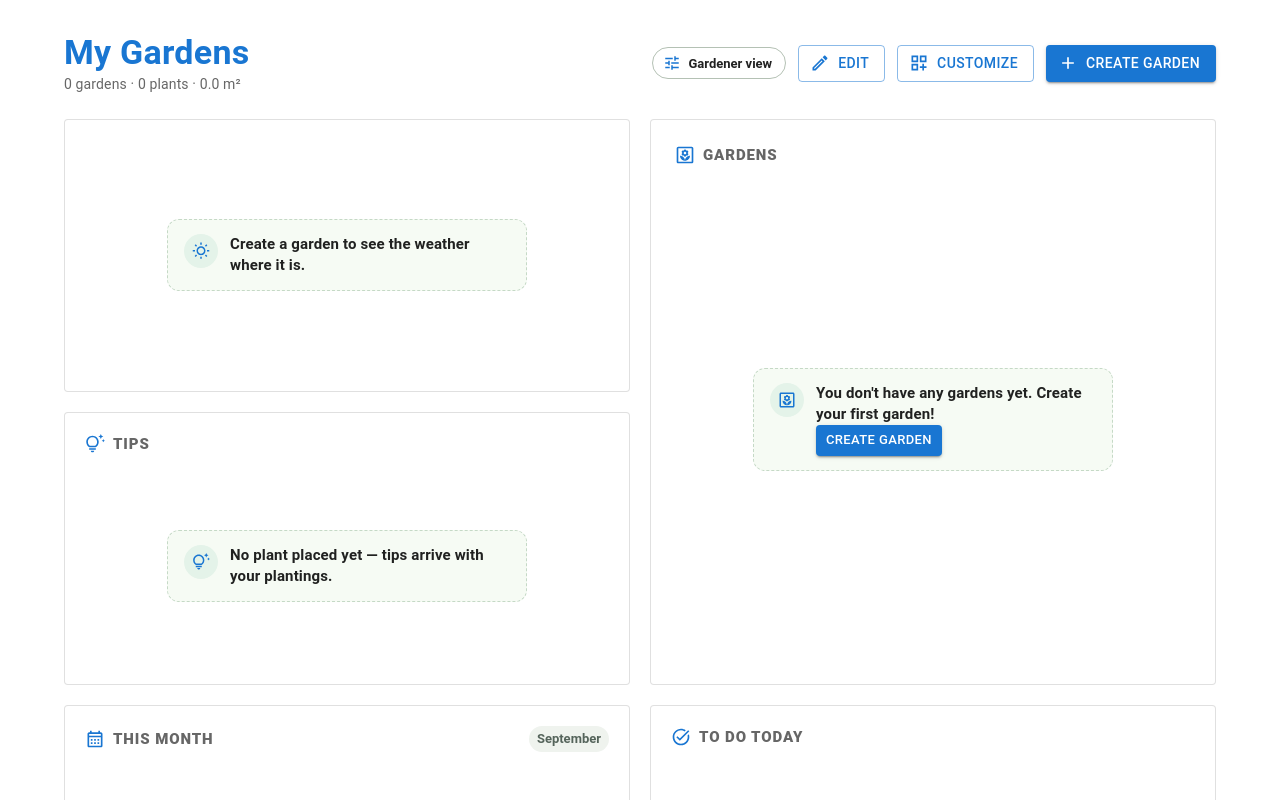
Scenario: GardensDashboard — Edit mode chrome (SMA-336) › opens a generic options panel that admits it carries nothing yet
Click the button "Edit" at [842, 63], box [798,45,885,82]
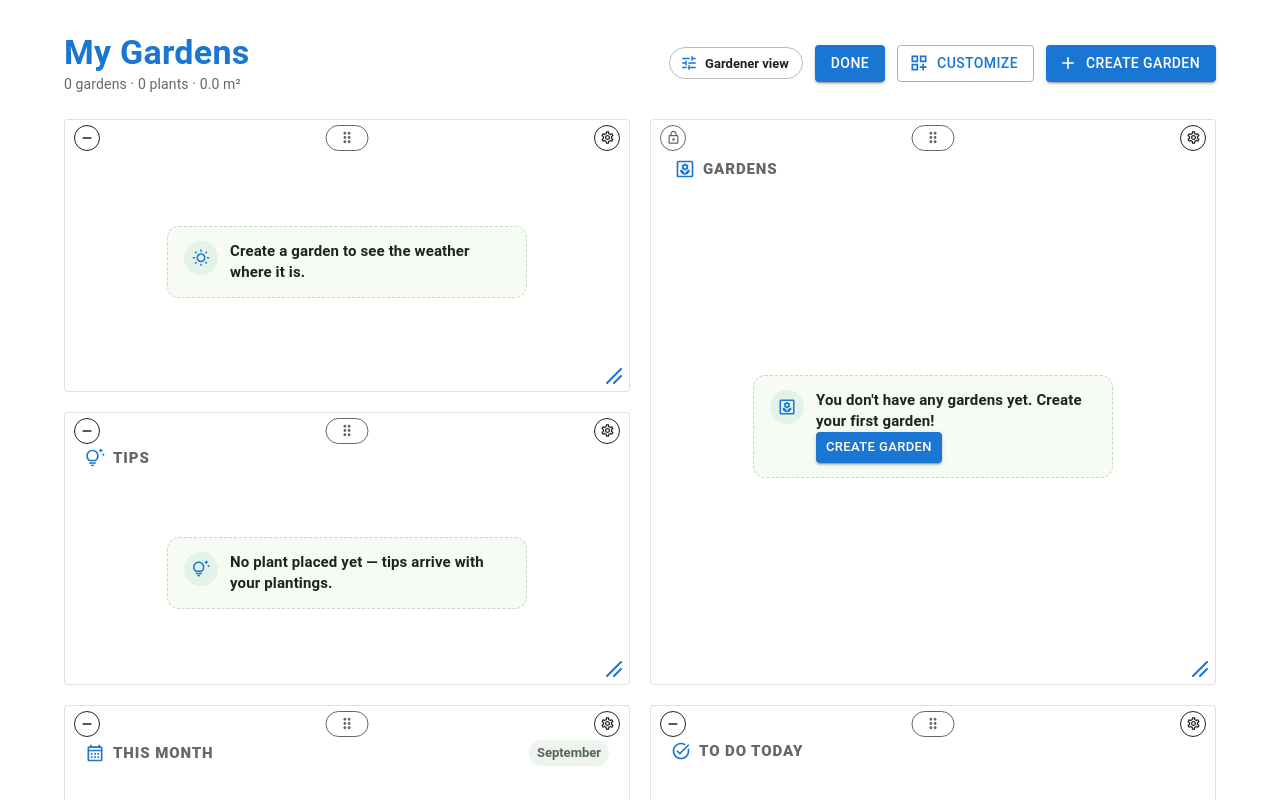
Click the button named "Tips options" at [607, 431], box [594,418,620,444]
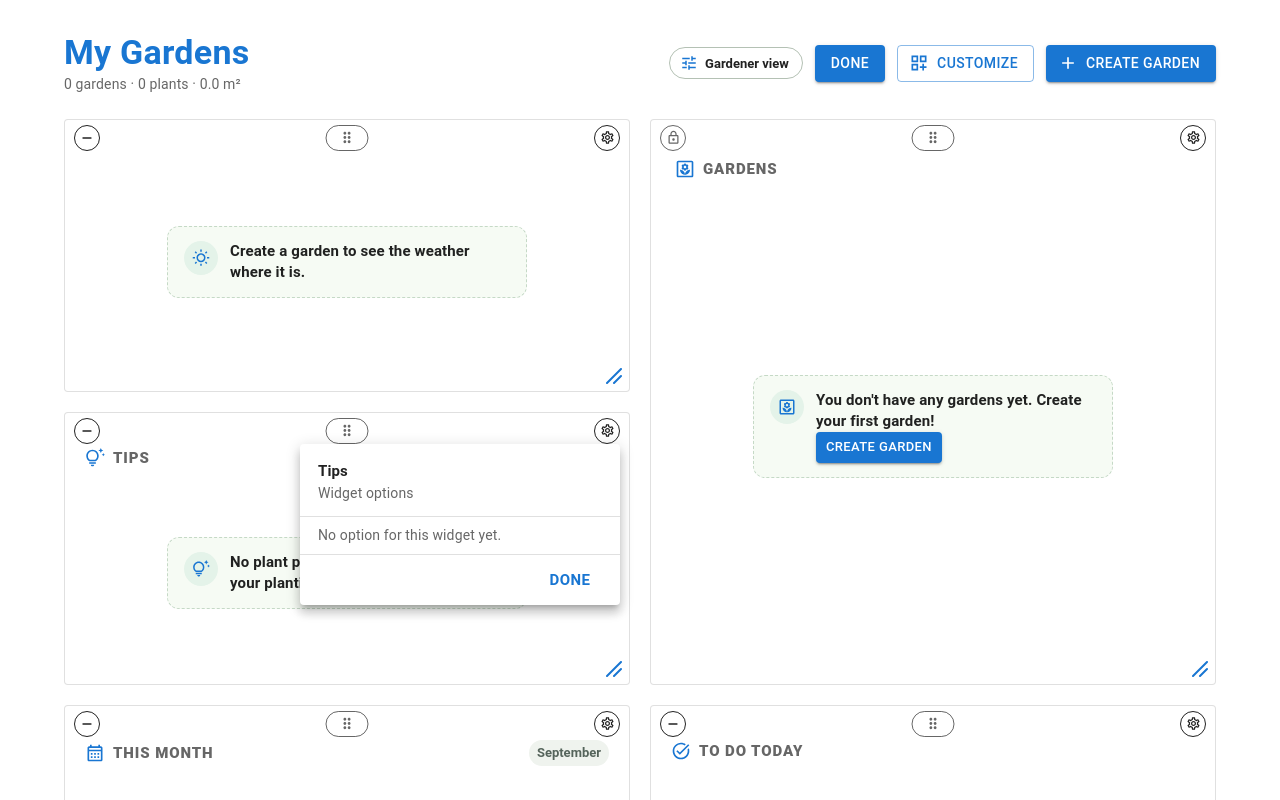
Expected: the text "Widget options" is shown, [318,484,414,500]
Expected: the text "No option for this widget yet." is shown, [318,526,501,542]
Expected: the button "Done" is shown, [538,562,602,597]
